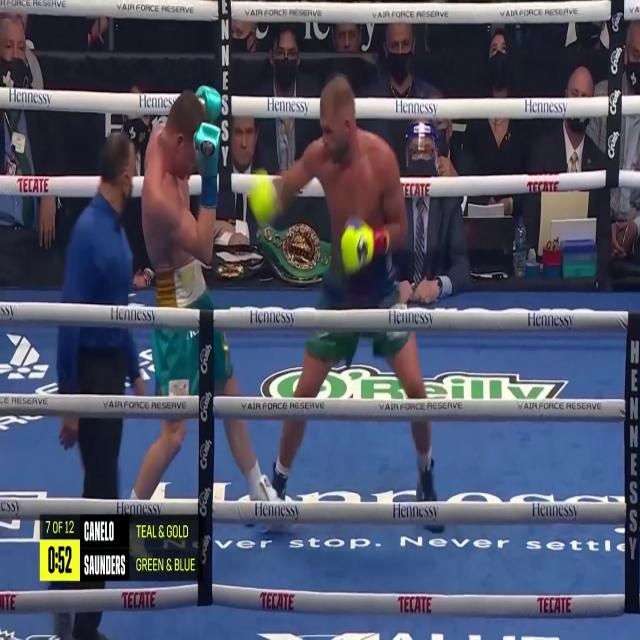boxer_1: (317, 77, 389, 236)
boxer_2: (142, 91, 203, 267)
gloves_1: (341, 216, 390, 271), (249, 175, 279, 228)
gloves_2: (193, 85, 222, 209)
